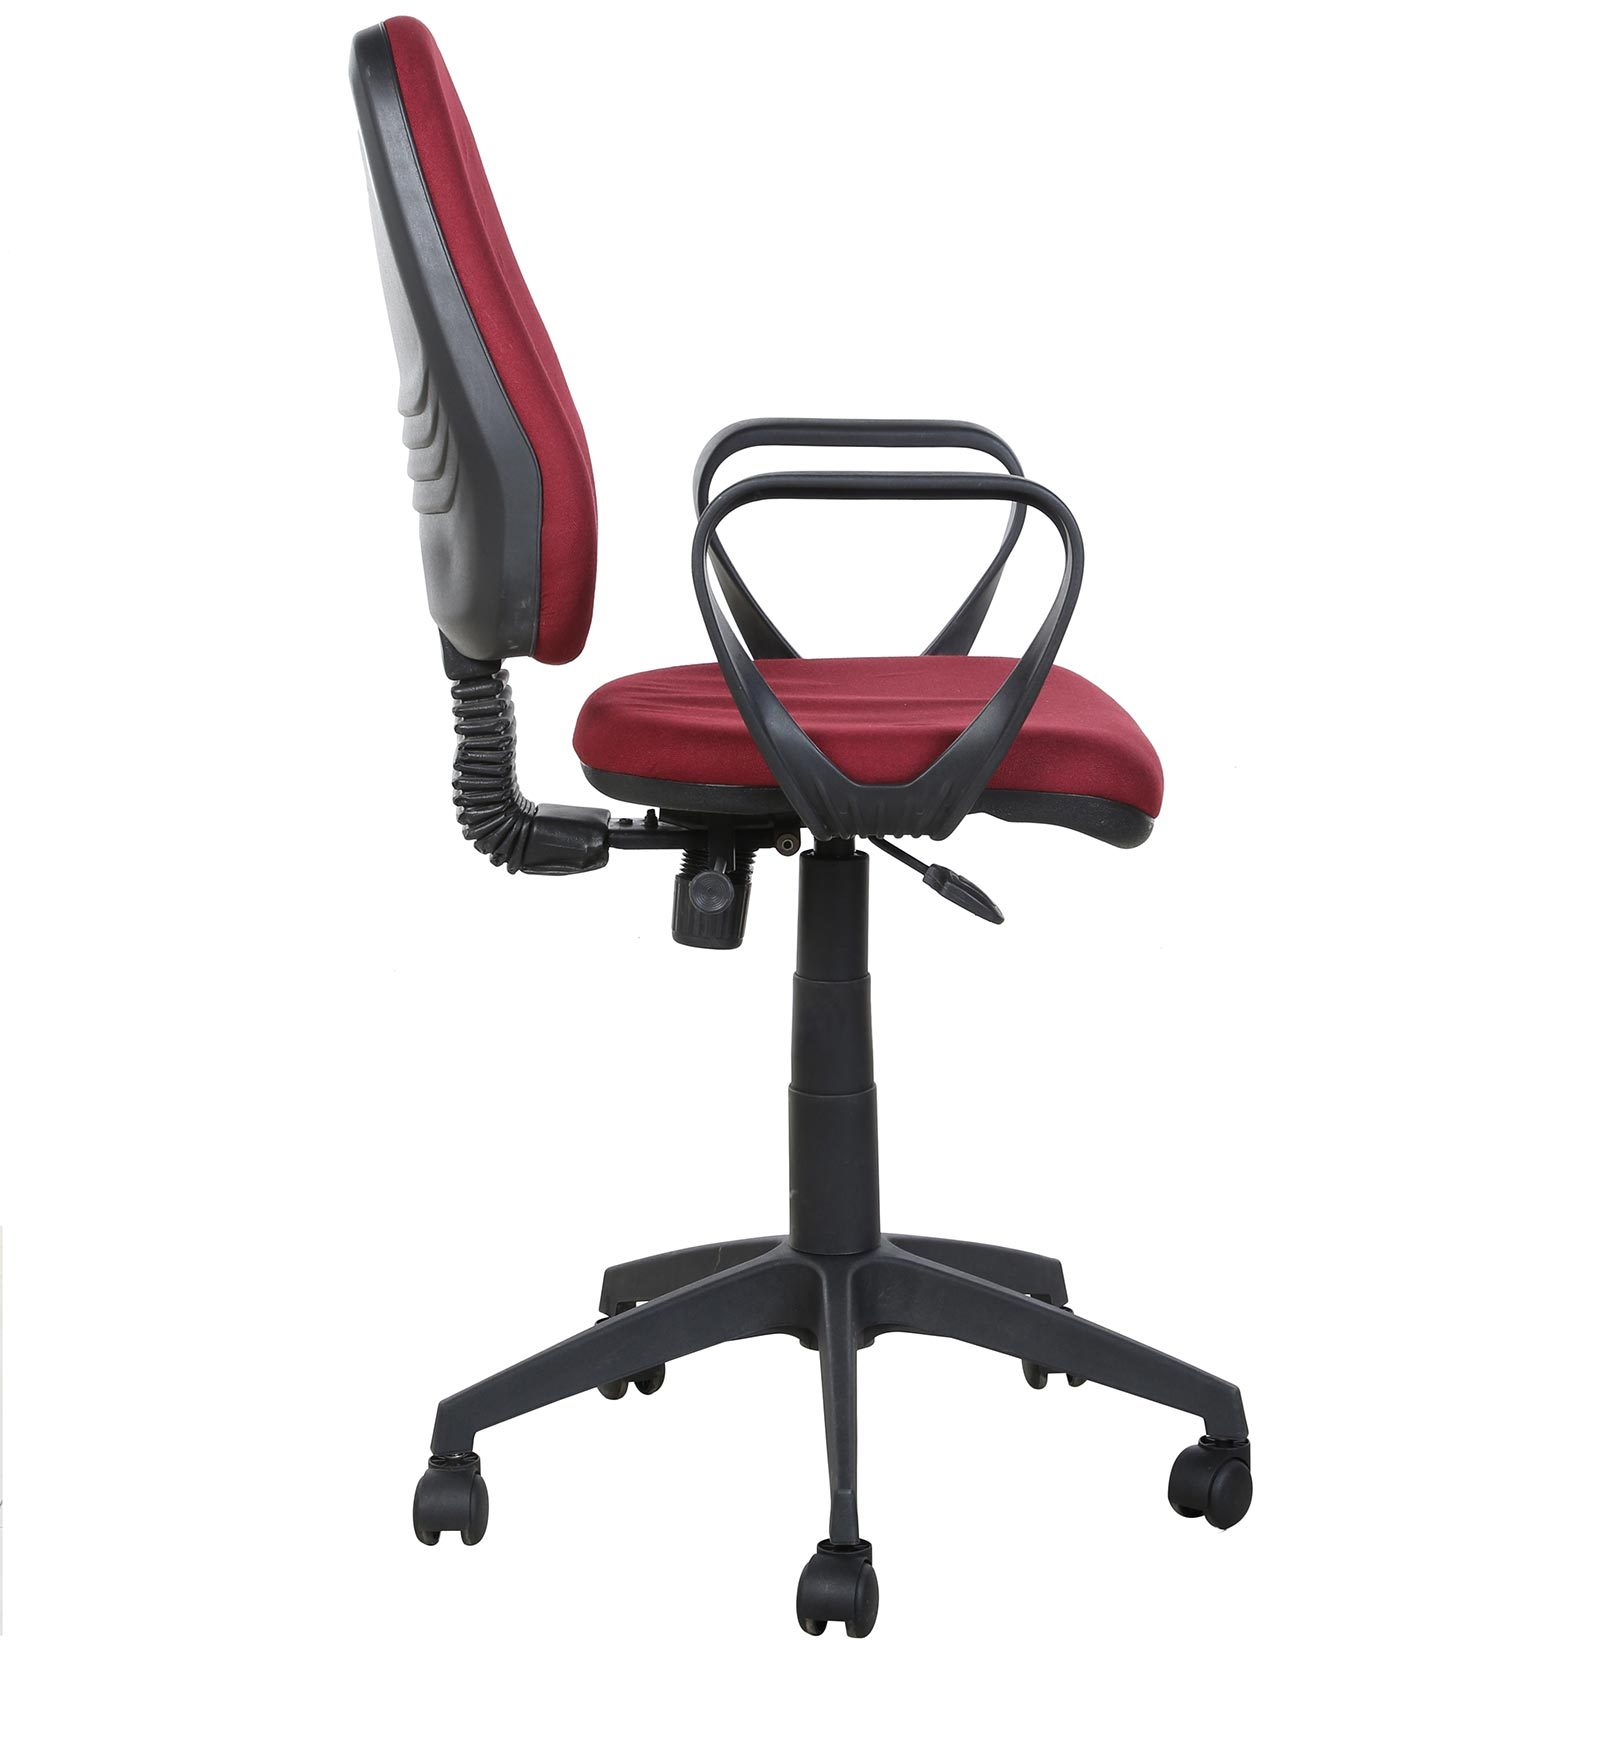Star Ergonomic Chair in Maroon Colour by Parin: (267, 20, 1310, 1666)
